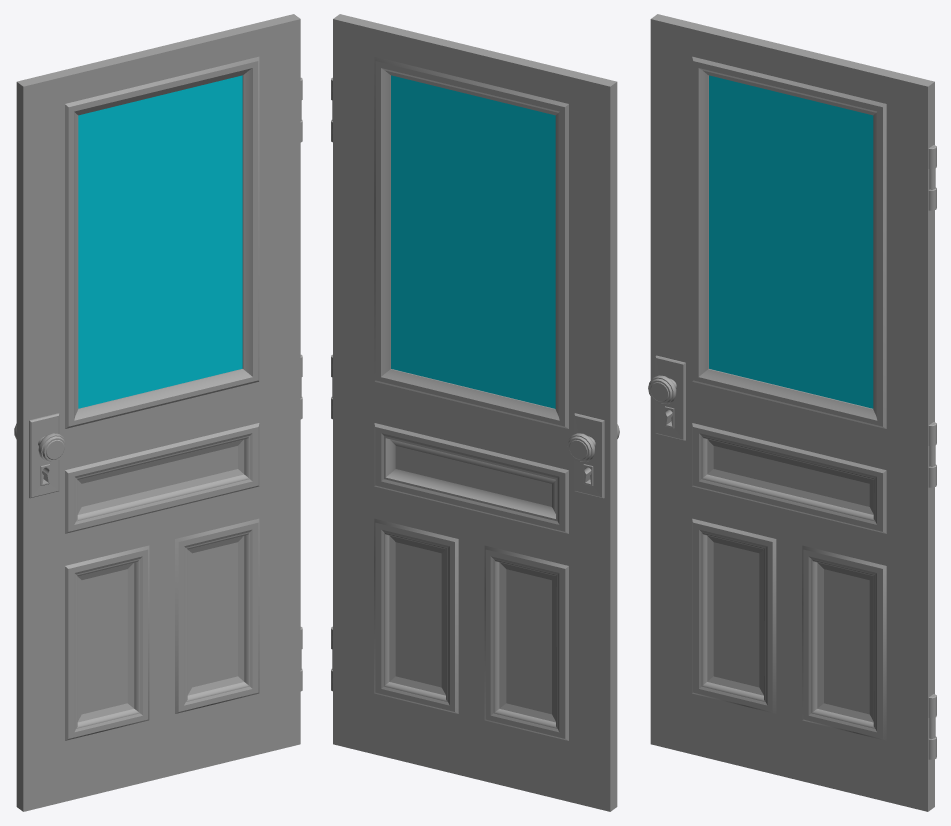
The model's file is bossdoor_structure.fbx.
The picture shows the model from 3 angles, left to right: view 1: azimuth 30°, elevation 25°; view 2: azimuth 150°, elevation 25°; view 3: azimuth 330°, elevation 25°; orthographic projection.
Parts seen in each view (by area): view 1: bossdoor; view 2: bossdoor; view 3: bossdoor.
Boxes of the visible parts, box(x1,y1,x2,y2) form: bossdoor: box(14, 14, 302, 811); bossdoor: box(331, 14, 619, 811); bossdoor: box(648, 14, 936, 811).
Bounding box in the file's own units: 829 × 2036 × 154.
